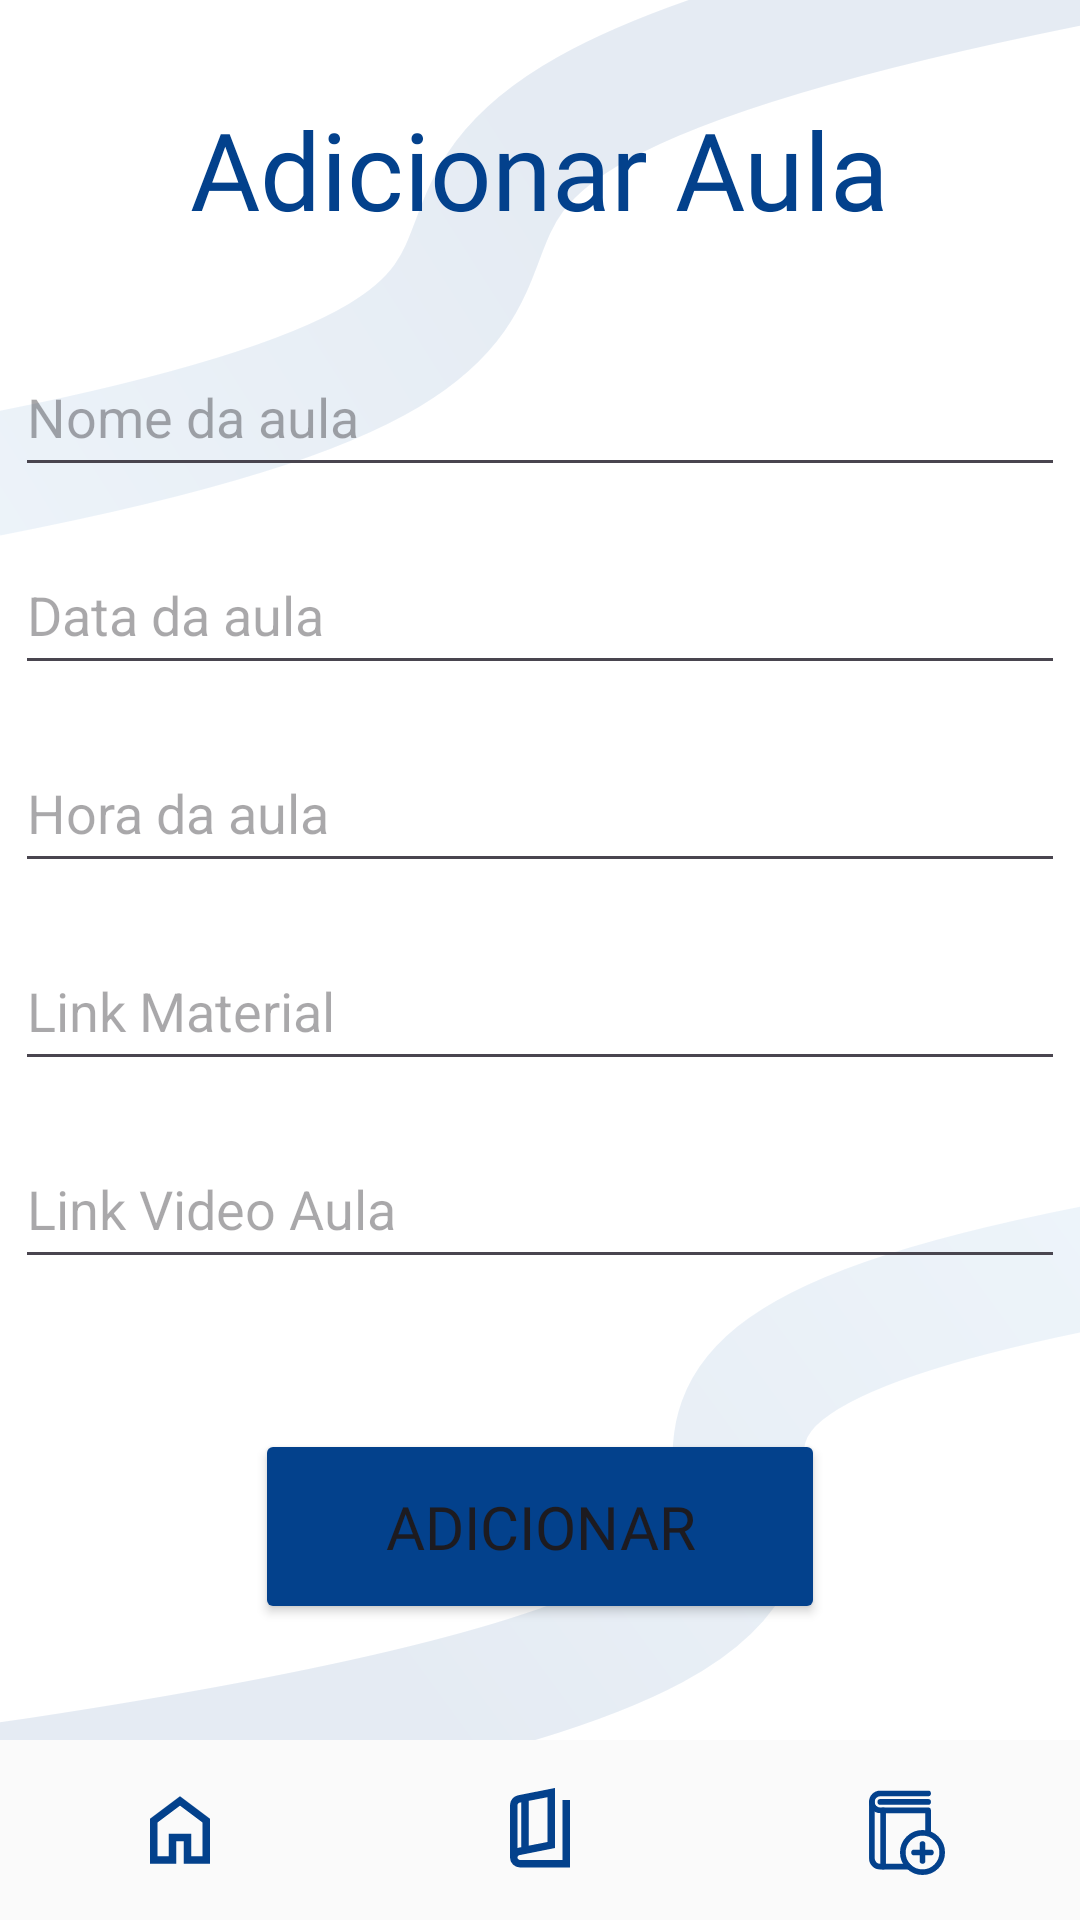

Named icons in this screenshot (1080×1920) and their bounding boxes, (x1, y1, x2, y2):
Aulas: (510, 1788, 570, 1868)
Inicio: (150, 1796, 210, 1864)
